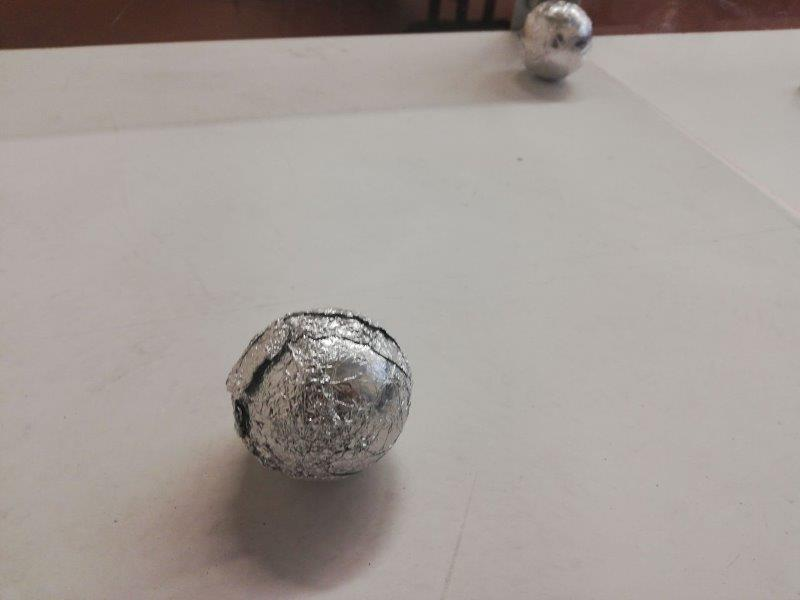bianca: (232, 305, 408, 480), (515, 5, 591, 80)
